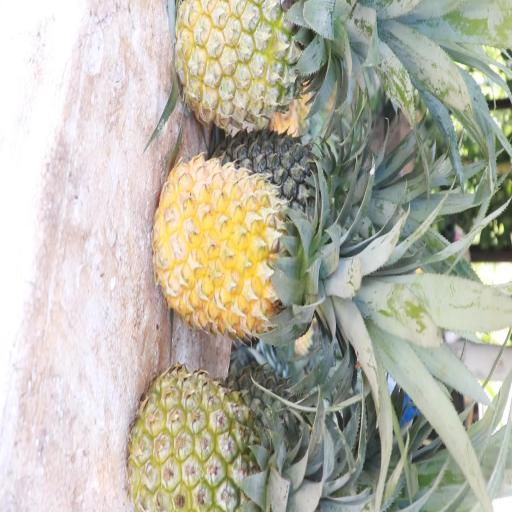------------------------------: (130, 370, 308, 512), (172, 0, 344, 129)
Pineapple - v8 v1: (156, 163, 341, 338)
